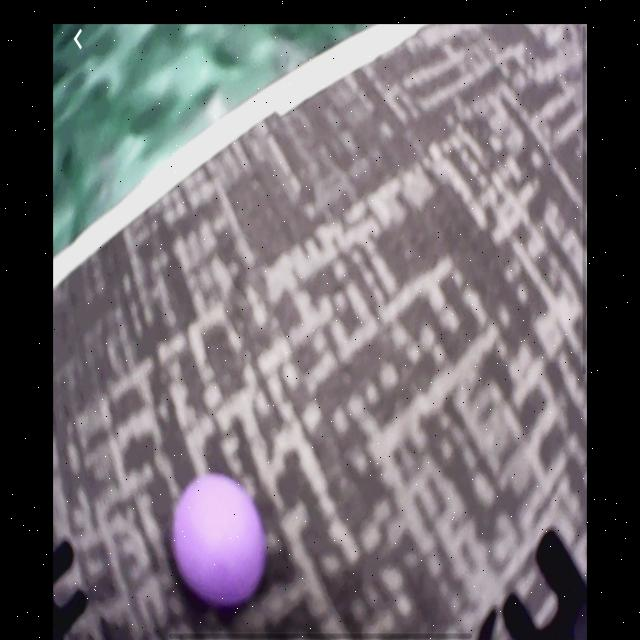ball: (174, 472, 268, 606)
